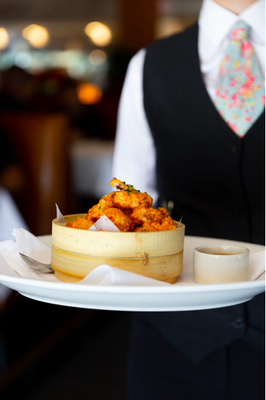sushi: (50, 214, 185, 285)
